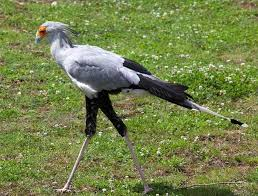Walking: (31, 14, 249, 196)
